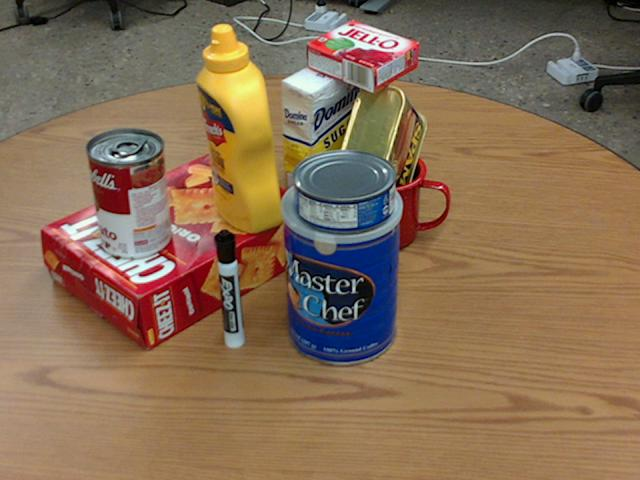cracker_box: (43, 156, 313, 350)
gelatin_box: (304, 21, 418, 92)
large_marker: (215, 230, 245, 348)
master_chef_can: (278, 169, 399, 363)
mug: (339, 145, 451, 251)
mustard_bottle: (195, 24, 281, 232)
potted_meat_can: (337, 83, 425, 202)
sugar_box: (281, 51, 366, 237)
tomato_soup_can: (86, 128, 170, 258)
tuna_fish_can: (291, 148, 395, 231)
